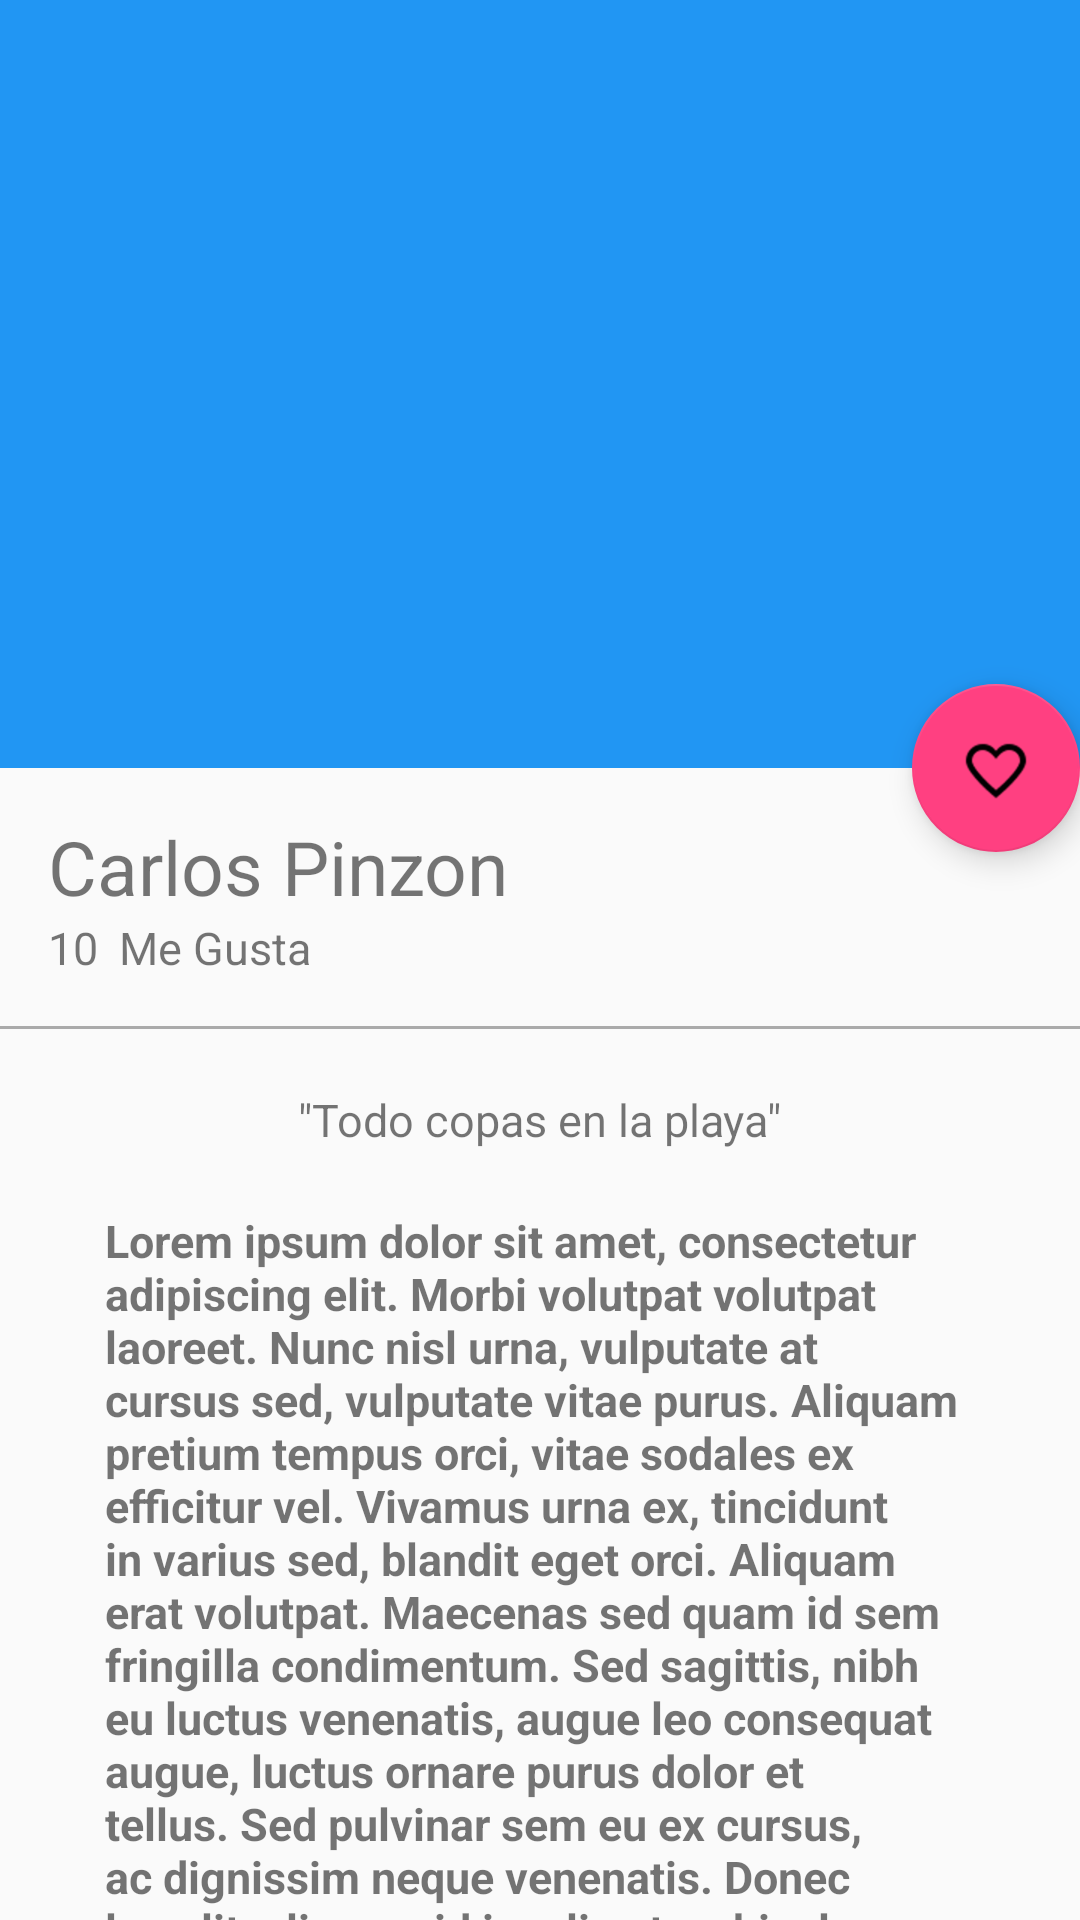

Where to tap for icons on this 1080w x 1920h app screen, as [x,y]:
heartempty: [996,768]
